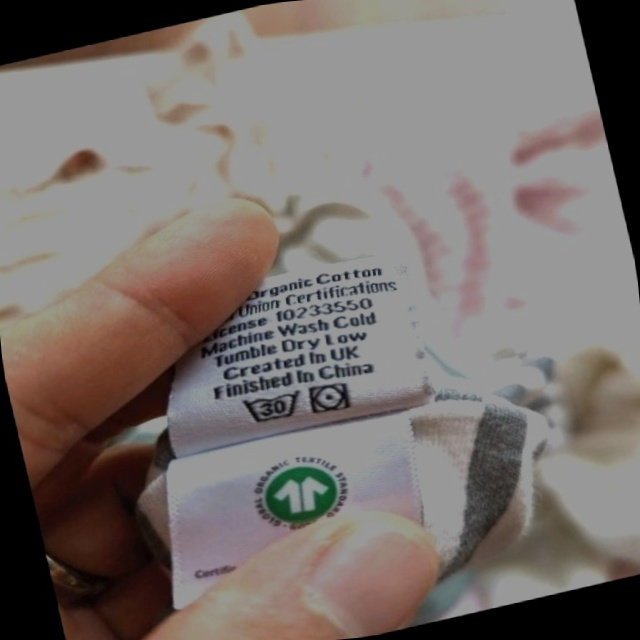30C: (235, 383, 308, 432)
tumble_dry_low: (304, 376, 356, 421)
